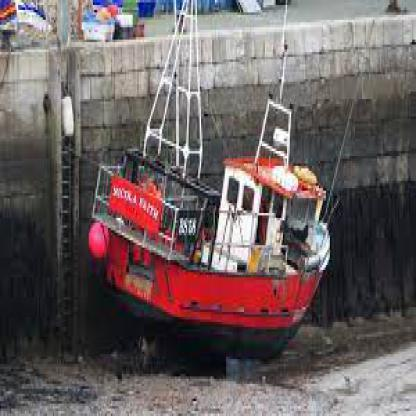fish-b: (78, 7, 338, 384)
